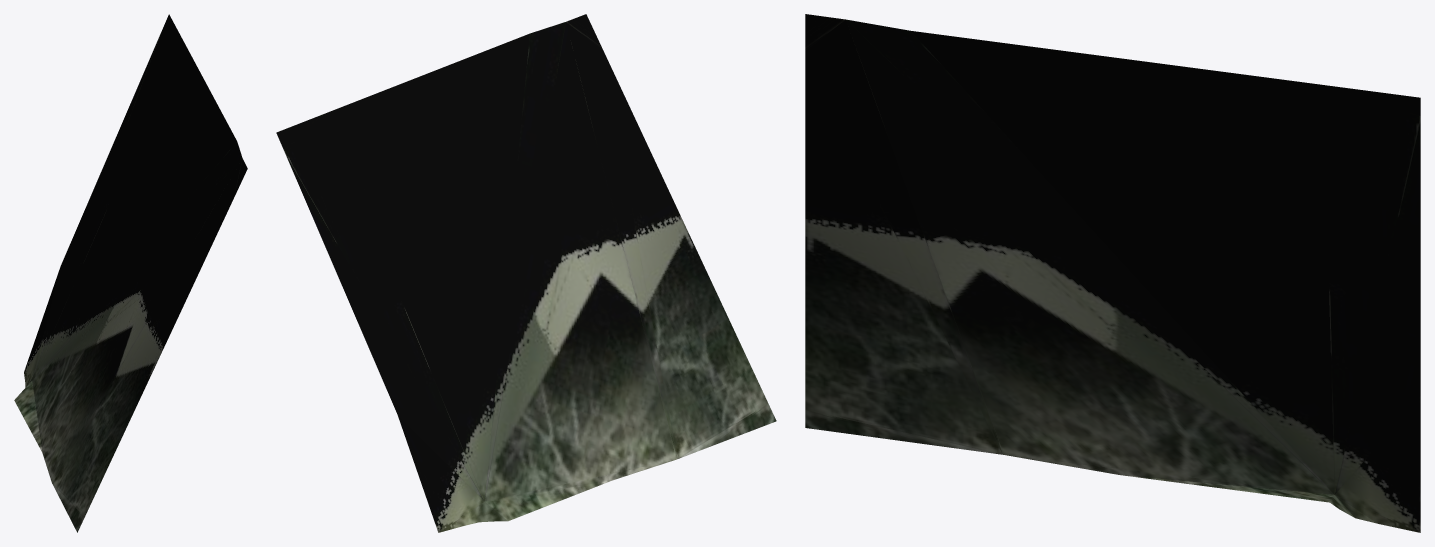
The picture shows the model from 3 angles, left to right: view 1: azimuth 30°, elevation 25°; view 2: azimuth 150°, elevation 25°; view 3: azimuth 270°, elevation 25°; orthographic projection. The views are drawn at different scales.
Bounding box in the file's own units: 5.16 × 5.9 × 5.9.
Materials: 2 (2 with a texture image).
